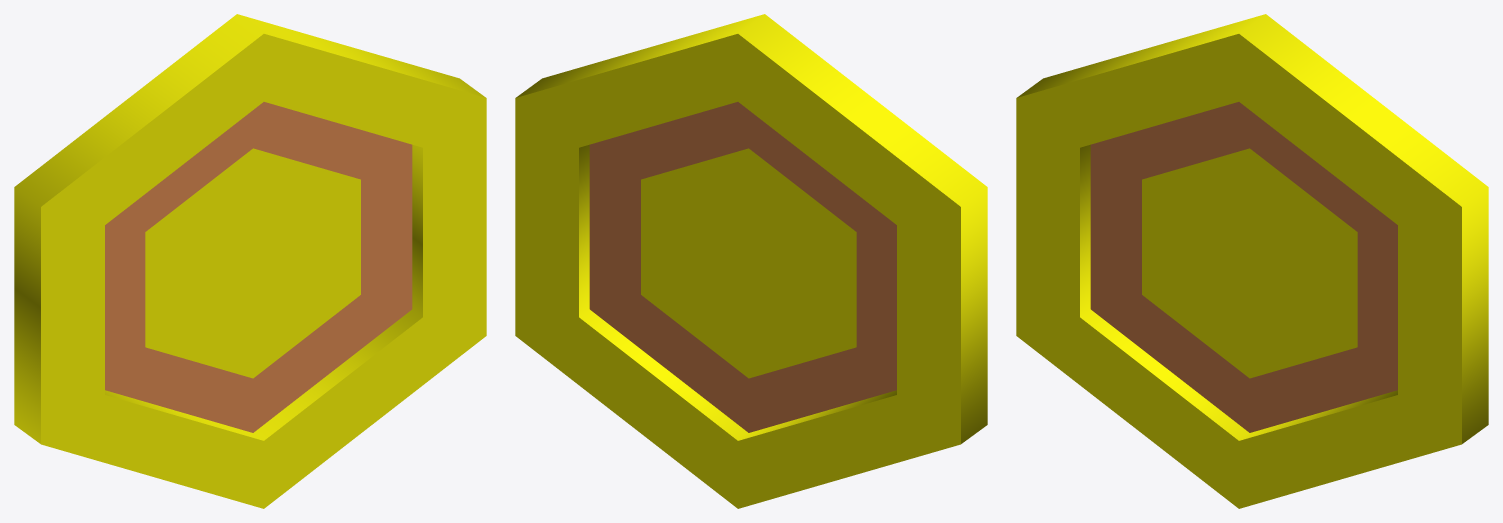
Rendered from moeda.glb.
3 renders of one model, left to right at view 1: azimuth 30°, elevation 25°; view 2: azimuth 150°, elevation 25°; view 3: azimuth 330°, elevation 25°, orthographic.
Parts seen in each view (by area): view 1: coinGold; view 2: coinGold; view 3: coinGold.
Part boxes in pixels (x1,y1,x2,y2): coinGold: [14, 14, 486, 508]; coinGold: [515, 14, 987, 508]; coinGold: [1016, 14, 1488, 508].
Bounding box in the file's own units: 0.9568 × 0.9753 × 0.1.
